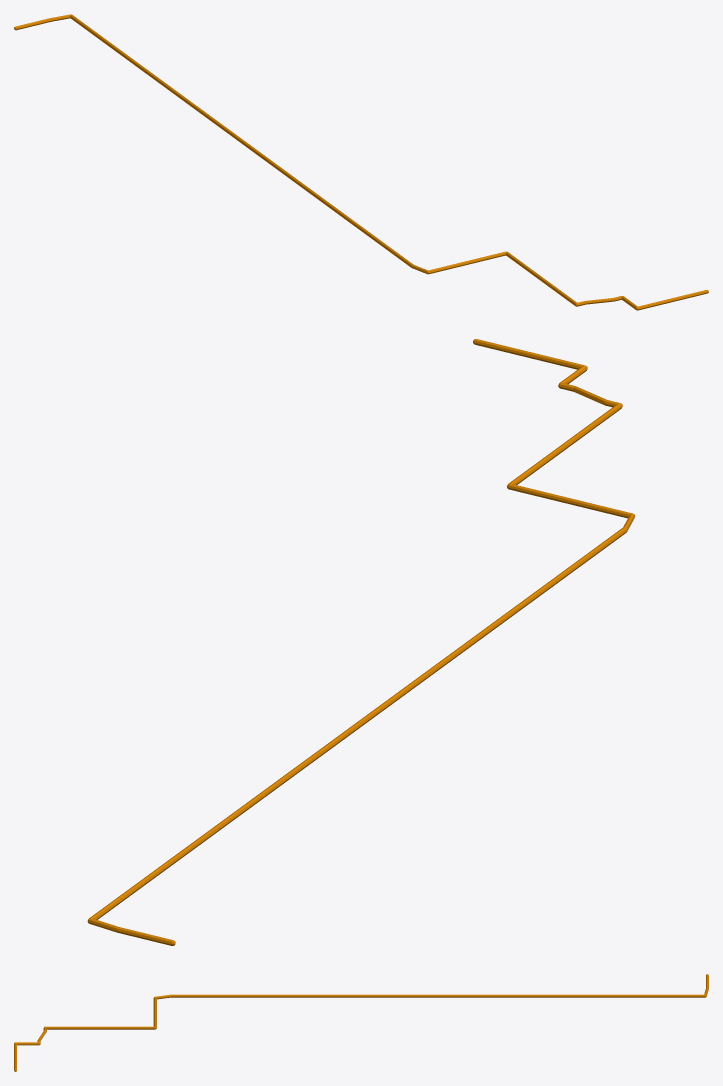
The picture shows the model from 3 angles, top to bottom: view 1: azimuth 30°, elevation 25°; view 2: azimuth 150°, elevation 25°; view 3: azimuth 270°, elevation 25°; orthographic projection. The views are drawn at different scales.
Bounding box in the file's own units: 1448 × 20 × 4424.
